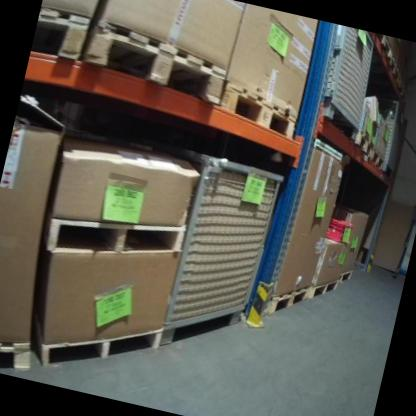pallet: (78, 17, 234, 111), (42, 193, 189, 283), (29, 297, 164, 392), (214, 75, 304, 140), (30, 4, 95, 68), (265, 275, 314, 327), (0, 328, 40, 379), (310, 268, 341, 301), (350, 127, 378, 162), (369, 34, 398, 67), (336, 263, 357, 288), (370, 148, 389, 172)
small_load_carrier: (325, 214, 357, 244)
stillage: (158, 150, 285, 364), (314, 25, 383, 133), (374, 99, 408, 169)
